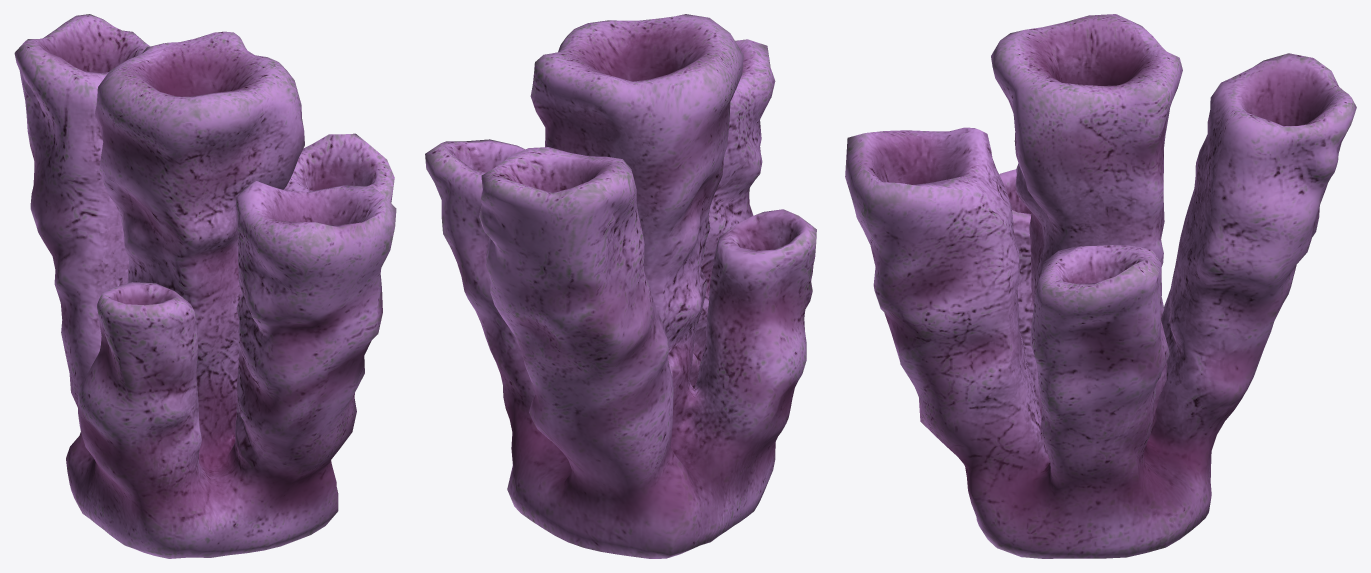
Rendered from purple_coral.glb.
The picture shows the model from 3 angles, left to right: view 1: azimuth 30°, elevation 25°; view 2: azimuth 150°, elevation 25°; view 3: azimuth 270°, elevation 25°; orthographic projection. The views are drawn at different scales.
Parts seen in each view (by area): view 1: Coral_1_base_Default_0; view 2: Coral_1_base_Default_0; view 3: Coral_1_base_Default_0.
Part boxes in pixels (x1,y1,x2,y2): Coral_1_base_Default_0: (14, 14, 396, 558); Coral_1_base_Default_0: (425, 14, 816, 558); Coral_1_base_Default_0: (845, 14, 1356, 558).
Size of the model in its own units: 5.61 by 7.45 by 7.41.
1 material, 1 textured.
